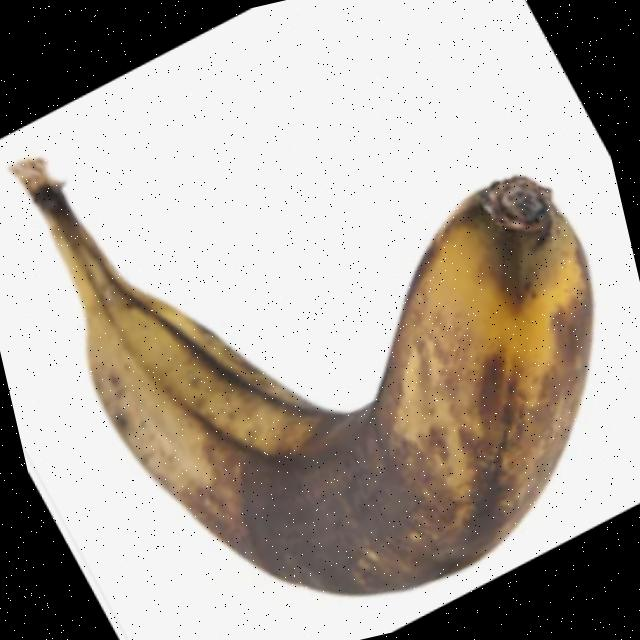overripe: (39, 76, 640, 640)
